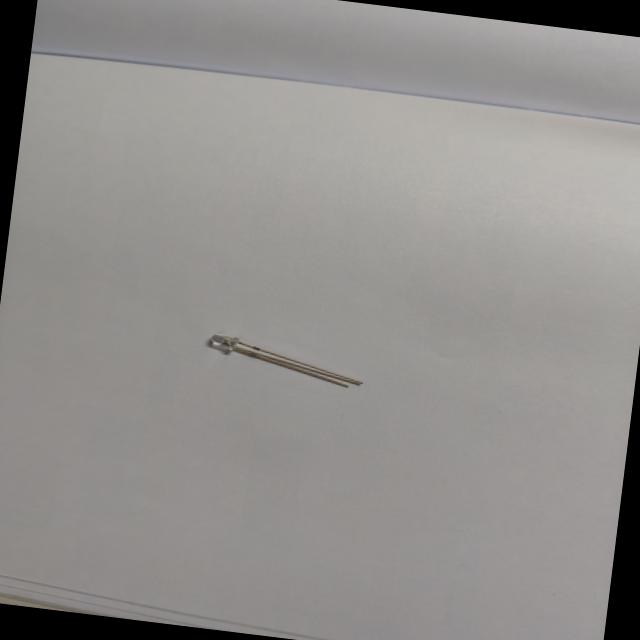relay: (195, 322, 380, 397)
